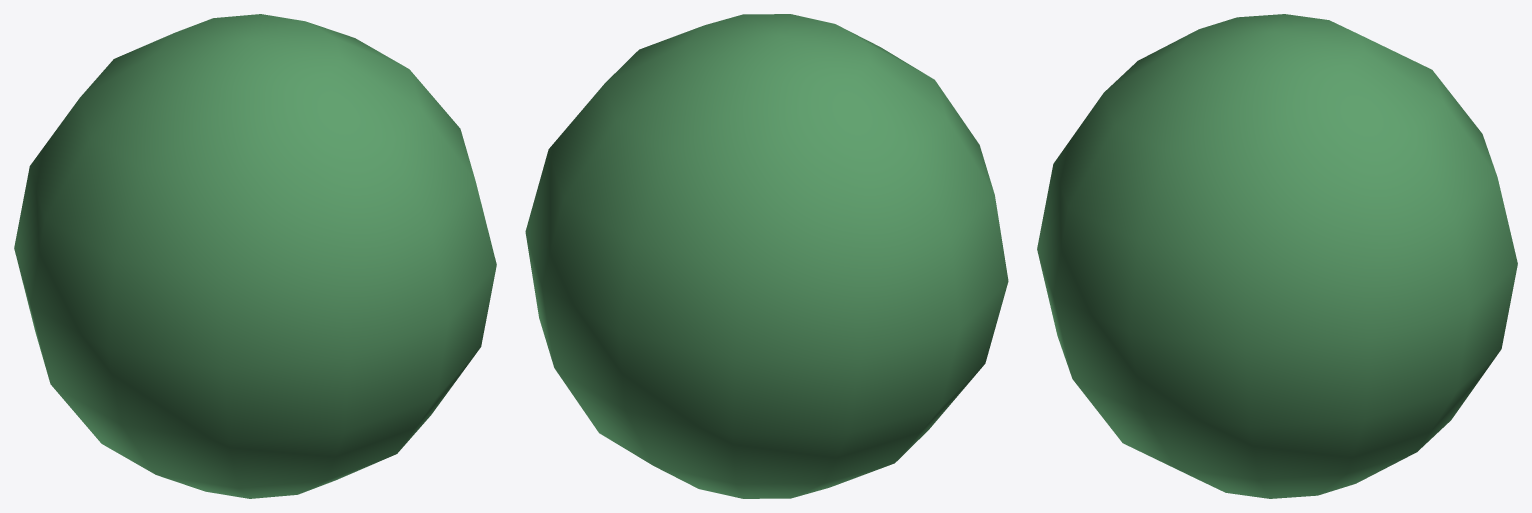
3 views of the same model, side by side, from view 1: azimuth 30°, elevation 25°; view 2: azimuth 150°, elevation 25°; view 3: azimuth 270°, elevation 25° (orthographic).
Parts seen in each view (by area): view 1: 左侧腹股沟深淋巴结中间组; view 2: 左侧腹股沟深淋巴结中间组; view 3: 左侧腹股沟深淋巴结中间组.
Boxes of the visible parts, x1,y1,x2,y2 form: 左侧腹股沟深淋巴结中间组: (14,14,496,498); 左侧腹股沟深淋巴结中间组: (525,14,1008,498); 左侧腹股沟深淋巴结中间组: (1037,14,1517,498).
Bounding box in the file's own units: 0.00379 × 0.00383 × 0.0038.
